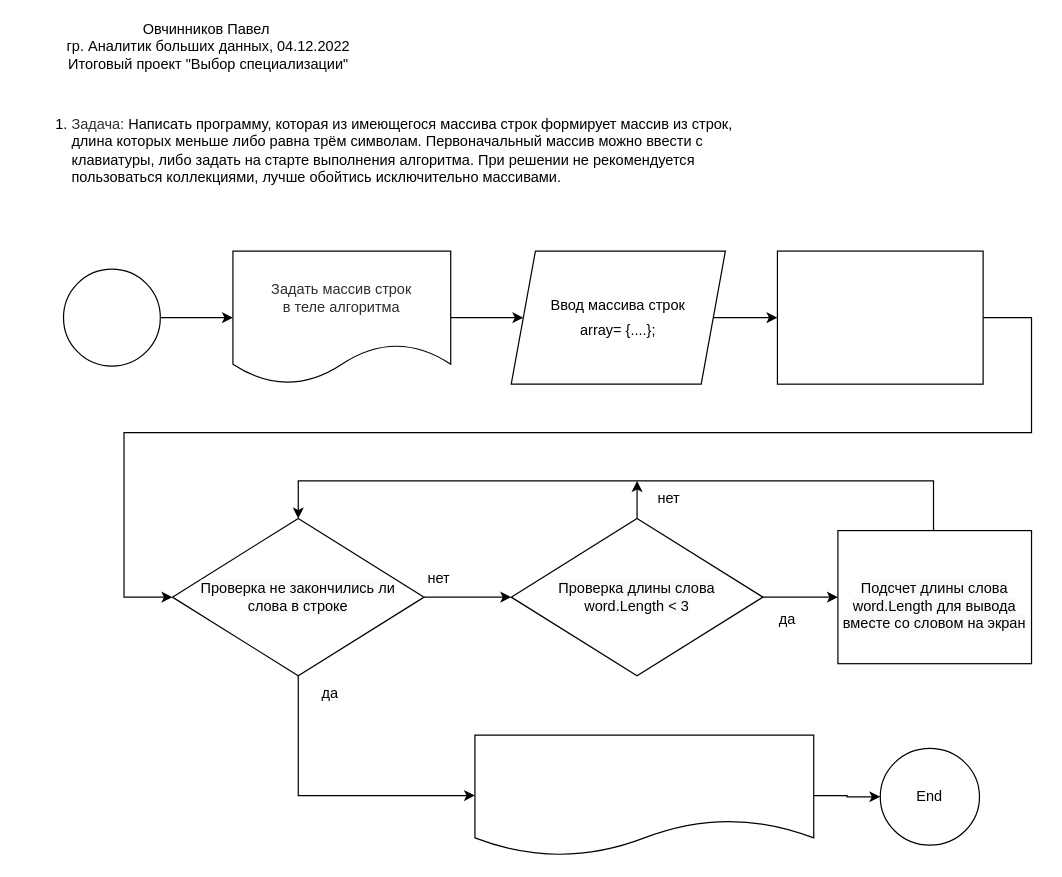
The diagram is 1062 pixels wide and 877 high, and some of its shapes have lost their labels. The centre of each missing label's shape, as x and y in pixels:
start: (111,317)
Вывод массива строк с длиной слов до 3 символов array= {.... };: (644,795)
Разбиение строки в новый массив строк по символам разделителям: (879,317)
